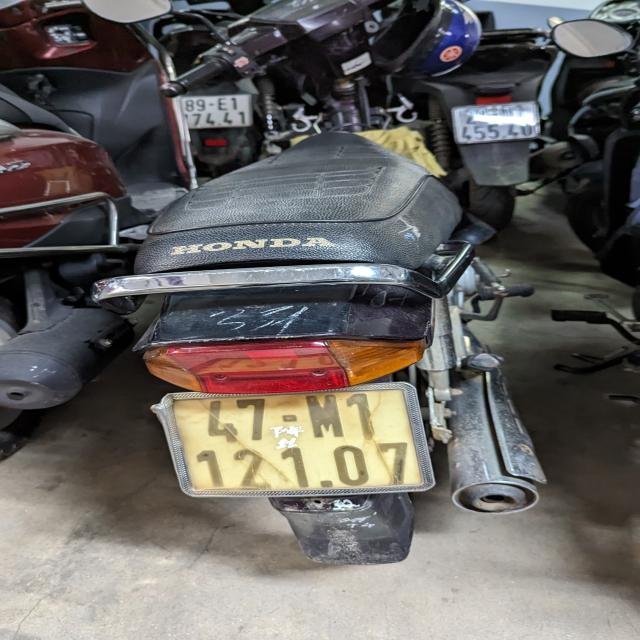License: (150, 382, 435, 498)
